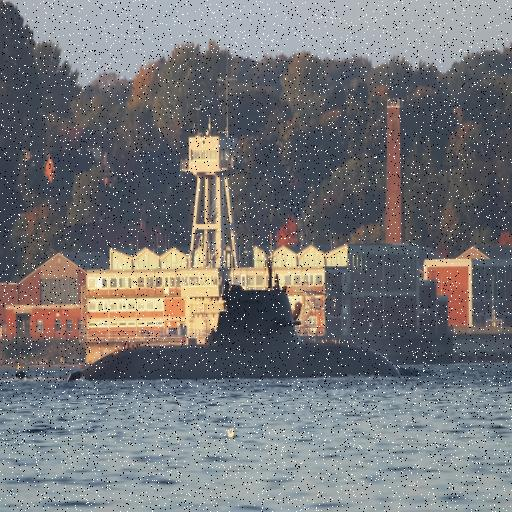submarine: (15, 290, 401, 384)
